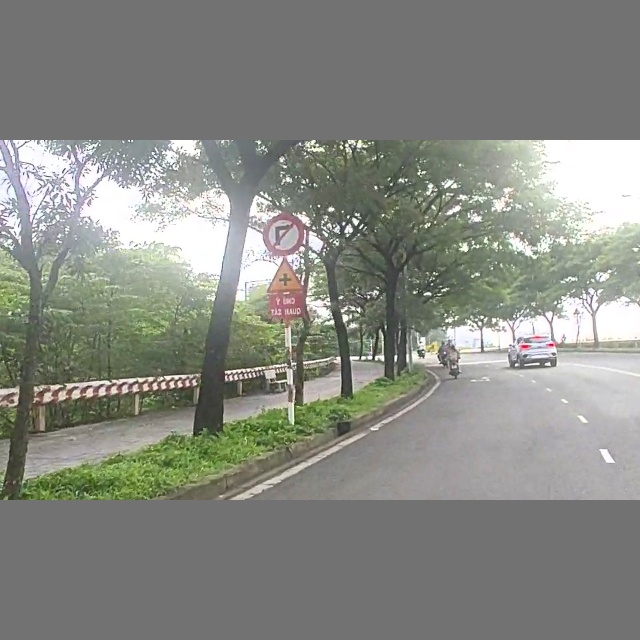P.123a: (252, 210, 310, 258)
W.205a: (260, 256, 307, 293)
